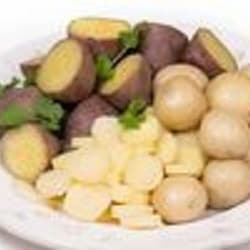boiled potatoes: (12, 11, 243, 222)
